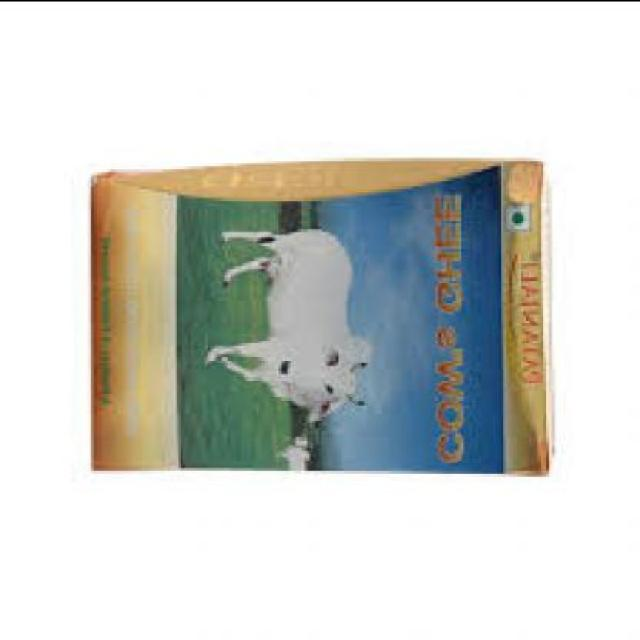CARDBOARD: (93, 156, 558, 478)
